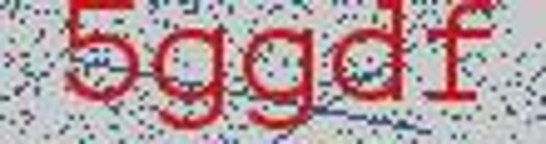5: (53, 1, 145, 107)
d: (326, 1, 410, 108)
f: (420, 1, 507, 112)
g: (149, 18, 228, 140), (238, 24, 320, 138)
